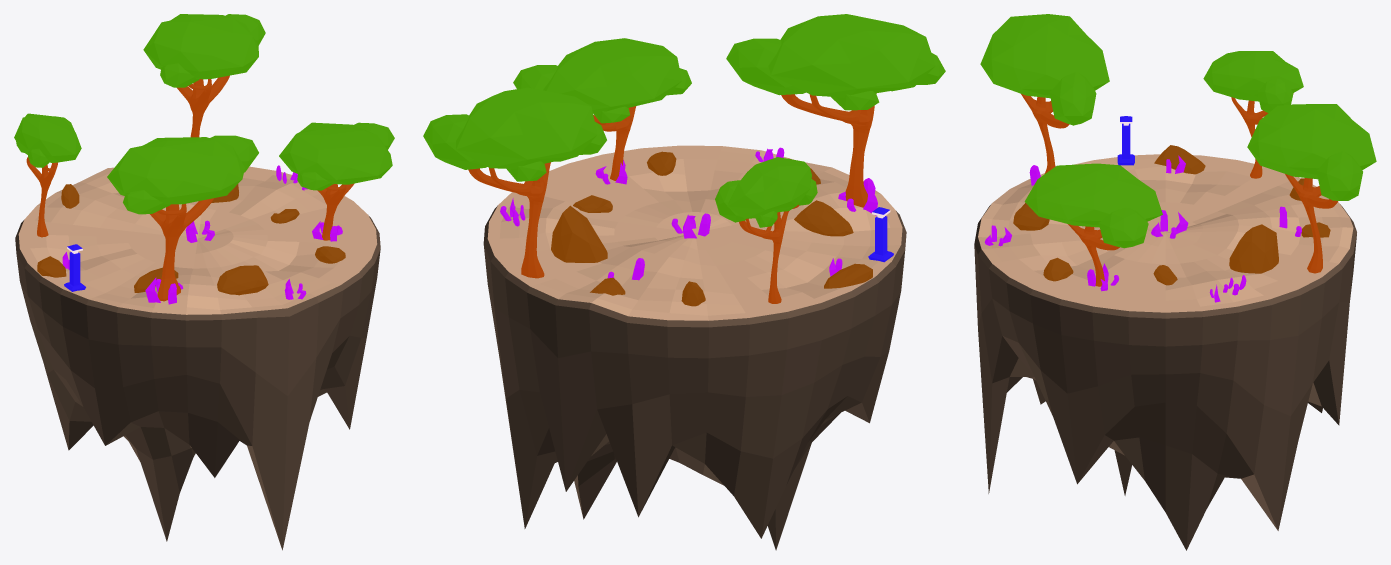
The model's file is island_type_02.glb.
3 views of the same model, side by side, from view 1: azimuth 30°, elevation 25°; view 2: azimuth 150°, elevation 25°; view 3: azimuth 270°, elevation 25° (orthographic). The views are drawn at different scales.
Parts seen in each view (by area): view 1: environnement, tree.04, tree_01, tree.03, tree_02, cailloux_05, pillar, cailloux_08; view 2: environnement, tree.04, tree_01, tree.03, tree_02, cailloux_06, cailloux_01, cailloux_08, pillar; view 3: environnement, tree.04, tree_01, tree.03, tree_02, cailloux_06, cailloux_08, cailloux_05, pillar, cailloux_03.
Boxes of the visible parts, box(x1,y1,x2,y2) form: environnement: box(15, 166, 380, 550); tree.04: box(107, 135, 258, 301); tree_01: box(143, 14, 265, 137); tree.03: box(279, 122, 394, 240); tree_02: box(14, 113, 81, 237); cailloux_05: box(217, 265, 268, 295); pillar: box(64, 244, 85, 291); cailloux_08: box(37, 256, 66, 277); environnement: box(483, 145, 906, 550); tree.04: box(726, 14, 945, 207); tree_01: box(423, 87, 606, 278); tree.03: box(513, 38, 691, 180); tree_02: box(715, 157, 817, 303); cailloux_06: box(551, 205, 607, 262); cailloux_01: box(794, 200, 853, 236); cailloux_08: box(824, 263, 872, 288); pillar: box(868, 207, 893, 262); environnement: box(974, 154, 1356, 550); tree.04: box(980, 14, 1109, 173); tree_01: box(1247, 104, 1376, 273); tree.03: box(1024, 163, 1162, 286); tree_02: box(1203, 51, 1303, 178); cailloux_06: box(1229, 224, 1278, 273); cailloux_08: box(1154, 145, 1205, 174); cailloux_05: box(1013, 203, 1049, 230); pillar: box(1117, 116, 1134, 165); cailloux_03: box(1043, 257, 1073, 281).
Size of the model in its own units: 20.88 by 26.05 by 21.02.
